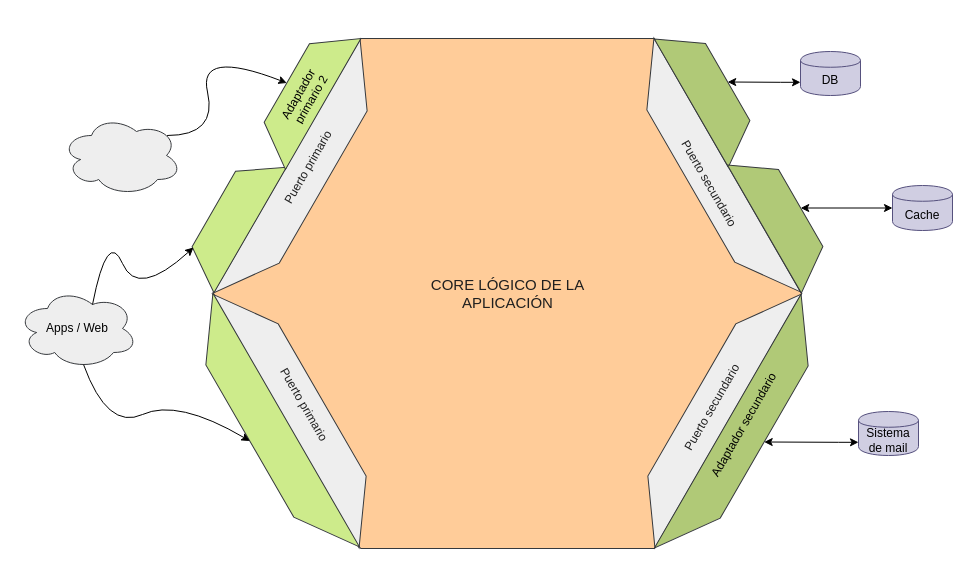
This 970x587 diagram has some shape labels left out. The box of each missing label's shape, as (x1, y1, x2, y2) in pixels:
Adaptador primario: (175, 292, 360, 568)
Adaptador primario 1: (176, 145, 287, 293)
Adaptador secundario 1: (653, 17, 765, 167)
Adaptador secundario 2: (726, 143, 838, 293)
Aplicación de escritorio: (60, 114, 182, 196)
